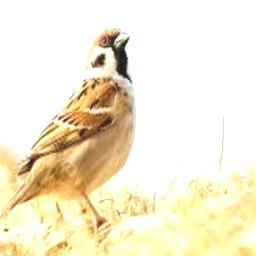Sparrow: (0, 28, 135, 228)
